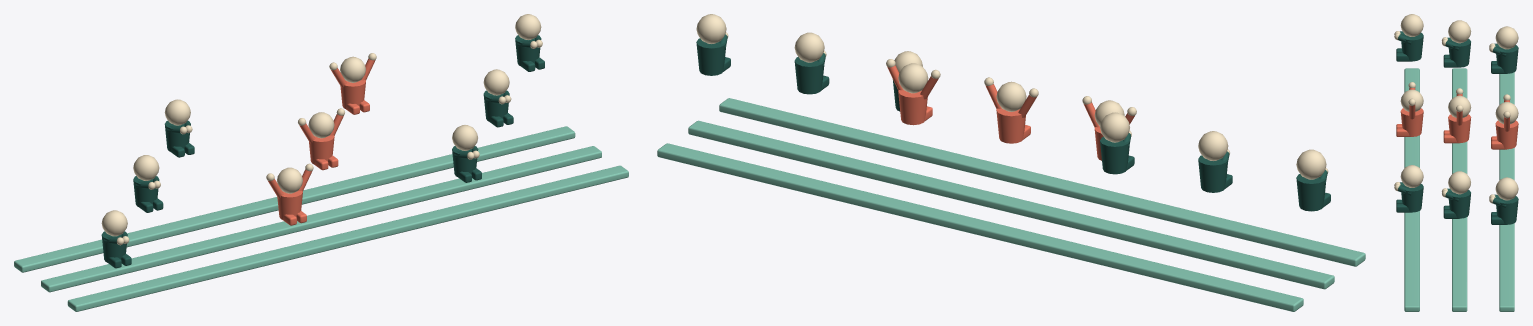
The model's file is athlete_spectators_strip.glb.
3 views of the same model, side by side, from view 1: azimuth 30°, elevation 25°; view 2: azimuth 150°, elevation 25°; view 3: azimuth 270°, elevation 25° (orthographic). The views are drawn at different scales.
Visible parts, largest first — view 1: athlete_spectators_strip__mint, athlete_spectators_strip__cream, athlete_spectators_strip__ink, athlete_spectators_strip__coral; view 2: athlete_spectators_strip__mint, athlete_spectators_strip__cream, athlete_spectators_strip__ink, athlete_spectators_strip__coral; view 3: athlete_spectators_strip__mint, athlete_spectators_strip__cream, athlete_spectators_strip__ink, athlete_spectators_strip__coral.
Part boxes in pixels (bbox=[...]): athlete_spectators_strip__mint: bbox=[14, 126, 628, 311]; athlete_spectators_strip__cream: bbox=[101, 14, 542, 245]; athlete_spectators_strip__ink: bbox=[101, 35, 544, 268]; athlete_spectators_strip__coral: bbox=[268, 58, 375, 225]; athlete_spectators_strip__mint: bbox=[657, 98, 1365, 311]; athlete_spectators_strip__cream: bbox=[696, 14, 1328, 179]; athlete_spectators_strip__ink: bbox=[696, 34, 1330, 211]; athlete_spectators_strip__coral: bbox=[887, 65, 1134, 160]; athlete_spectators_strip__mint: bbox=[1404, 68, 1514, 311]; athlete_spectators_strip__cream: bbox=[1394, 14, 1518, 203]; athlete_spectators_strip__ink: bbox=[1396, 31, 1518, 224]; athlete_spectators_strip__coral: bbox=[1396, 88, 1518, 149].
Size of the model in its own units: 5.12 by 1.15 by 1.13.
